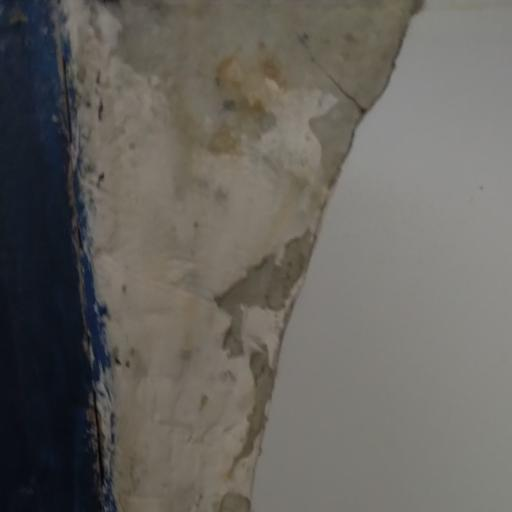spalling: (10, 0, 428, 512)
